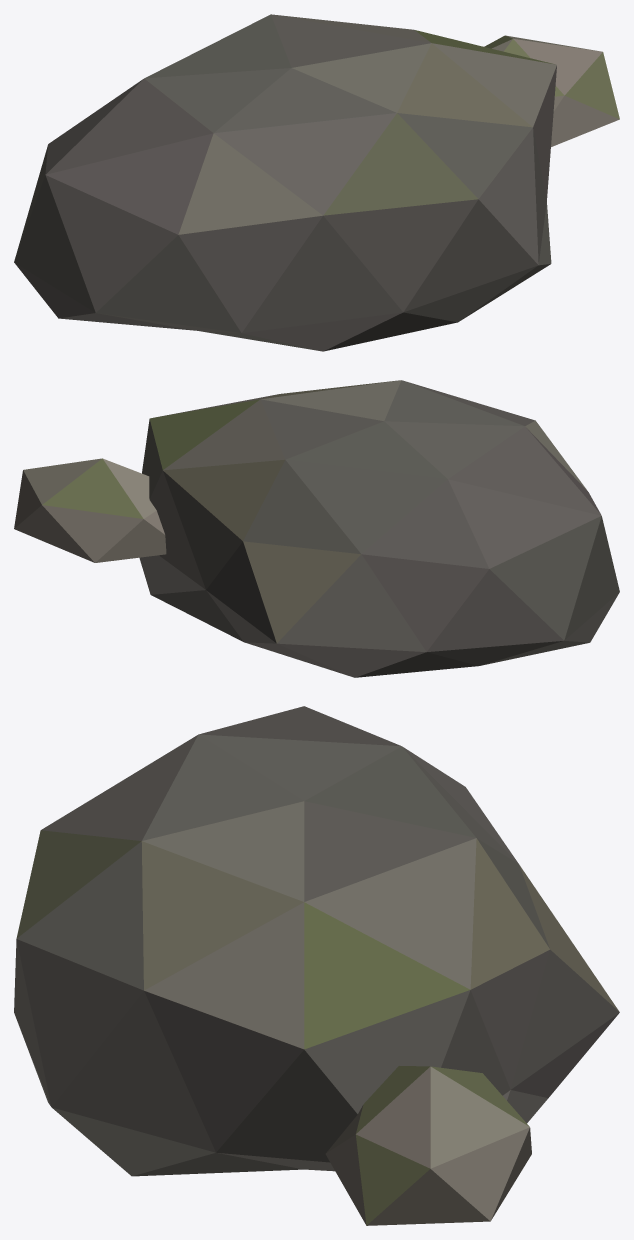
The model's file is env_boulder_b.glb.
3 views of the same model, one above another, from view 1: azimuth 30°, elevation 25°; view 2: azimuth 150°, elevation 25°; view 3: azimuth 270°, elevation 25° (orthographic). The views are drawn at different scales.
Visible parts, largest first — view 1: env_boulder_b; view 2: env_boulder_b; view 3: env_boulder_b.
Part boxes in pixels (x1,y1,x2,y2): env_boulder_b: [14, 14, 619, 351]; env_boulder_b: [14, 380, 619, 677]; env_boulder_b: [14, 706, 619, 1225].
Bounding box in the file's own units: 2.59 × 0.9084 × 1.73.
